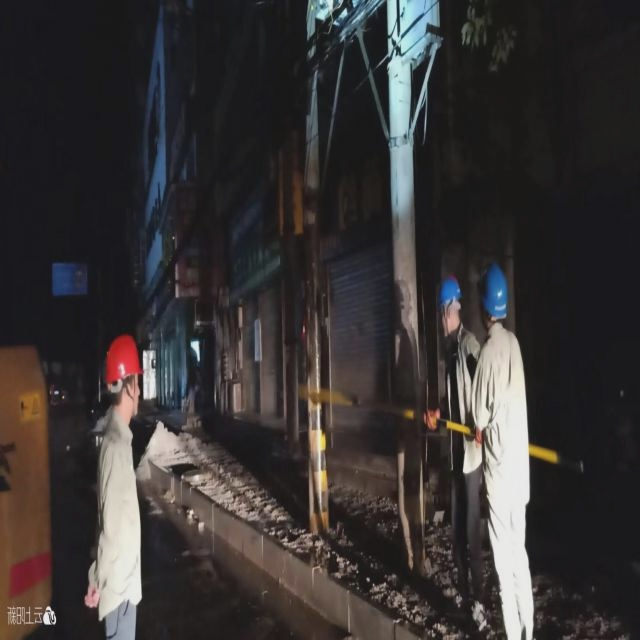Con_Casco: (107, 335, 142, 409), (479, 263, 509, 325)
